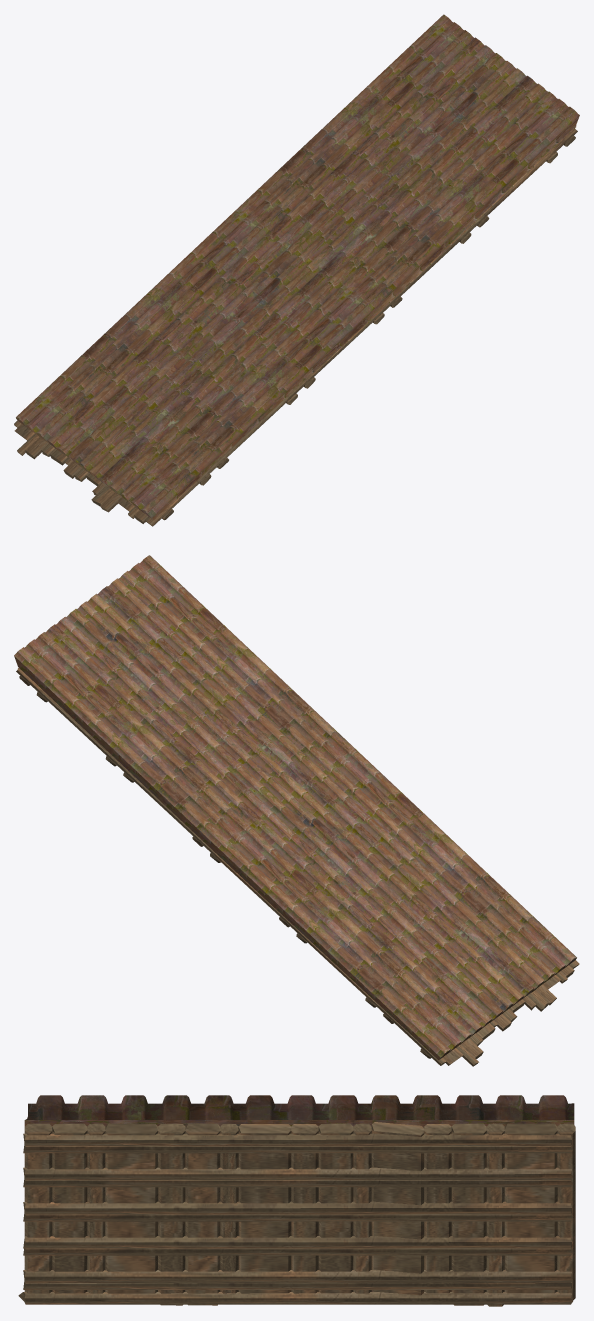
The model's file is SM_roof_01_base_01.fbx.
3 renders of one model, top to bottom at view 1: azimuth 30°, elevation 25°; view 2: azimuth 150°, elevation 25°; view 3: azimuth 270°, elevation 25°, orthographic. The views are drawn at different scales.
Parts seen in each view (by area): view 1: SM_roof_01_base_01_LOD0; view 2: SM_roof_01_base_01_LOD0; view 3: SM_roof_01_base_01_LOD0.
Part boxes in pixels (box(x1,y1,x2,y2)): SM_roof_01_base_01_LOD0: box(14, 14, 579, 526); SM_roof_01_base_01_LOD0: box(14, 555, 579, 1066); SM_roof_01_base_01_LOD0: box(18, 1095, 575, 1306).
Bounding box in the file's own units: 751 × 408 × 517.
Materials: 2 (2 with a texture image).
